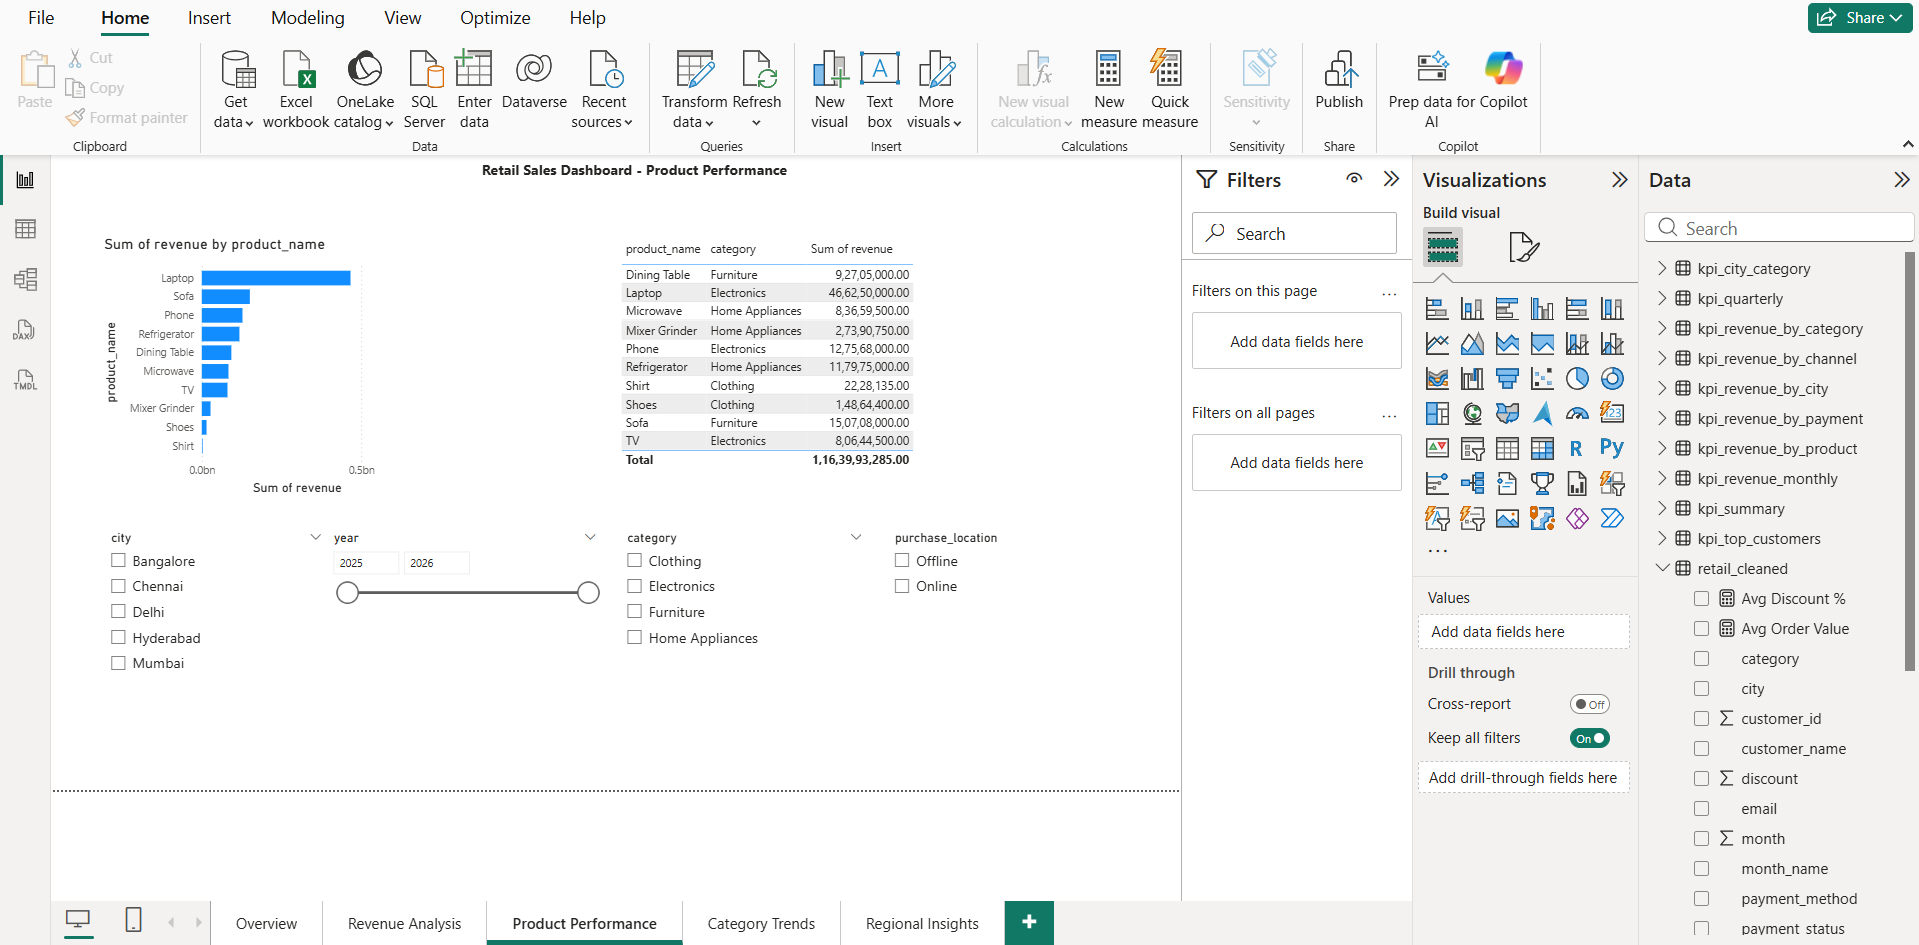

The dashboard page shown, as its layout file describes it:
{"tool":"powerbi","page":{"name":"Product Performance","canvas":[1280,720],"ordinal":2},"visuals":[{"type":"textbox","box":[483,0,414.4,49.4],"z":0},{"type":"barChart","fields":{"Category":["retail_cleaned.product_name"],"Y":["Sum(retail_cleaned.revenue)"]},"box":[54.9,90.6,352.7,299.1],"z":1000},{"type":"tableEx","fields":{"Values":["retail_cleaned.product_name","retail_cleaned.category","Sum(retail_cleaned.revenue)"]},"box":[639.5,90.6,352.7,299.1],"z":2000},{"type":"slicer","fields":{"Values":["retail_cleaned.city"]},"box":[54.9,421.3,263.5,277.2],"z":3000},{"type":"slicer","fields":{"Values":["retail_cleaned.year"]},"box":[307.4,421.3,322.5,299.1],"z":4000},{"type":"slicer","fields":{"Values":["retail_cleaned.category"]},"box":[639.5,421.3,290.9,299.1],"z":5000},{"type":"slicer","fields":{"Values":["retail_cleaned.purchase_location"]},"box":[942.7,421.3,299.1,299.1],"z":6000}]}

Visuals, with their boxes on the page's 1280x720 design canvas (x1, y1, x2, y2). These are canvas units, not pixel positions in the 1919x945 screenshot, which may show the page scaled, cropped or inside an application window:
textbox: crop(483, 0, 897, 49)
barChart - retail_cleaned.product_name x Sum(retail_cleaned.revenue): crop(55, 91, 408, 390)
tableEx - retail_cleaned.product_name x retail_cleaned.category: crop(640, 91, 992, 390)
slicer - retail_cleaned.city: crop(55, 421, 318, 698)
slicer - retail_cleaned.year: crop(307, 421, 630, 720)
slicer - retail_cleaned.category: crop(640, 421, 930, 720)
slicer - retail_cleaned.purchase_location: crop(943, 421, 1242, 720)
